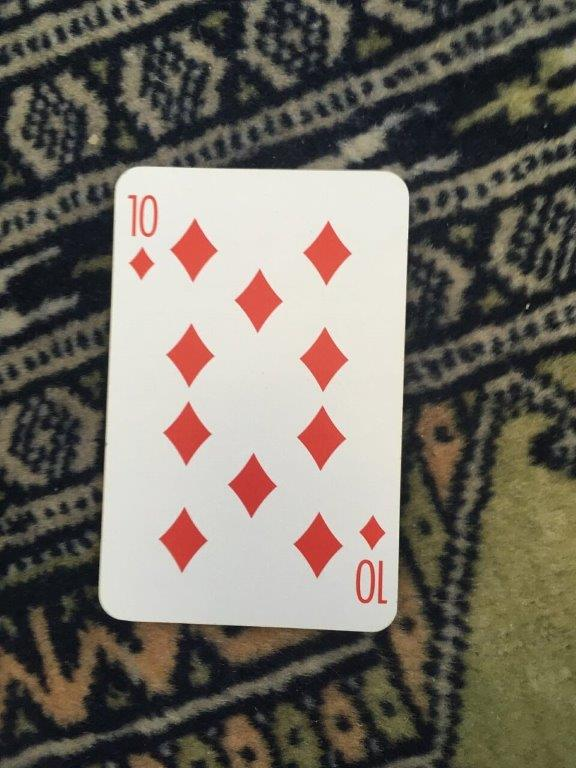10D: (94, 163, 414, 635)
